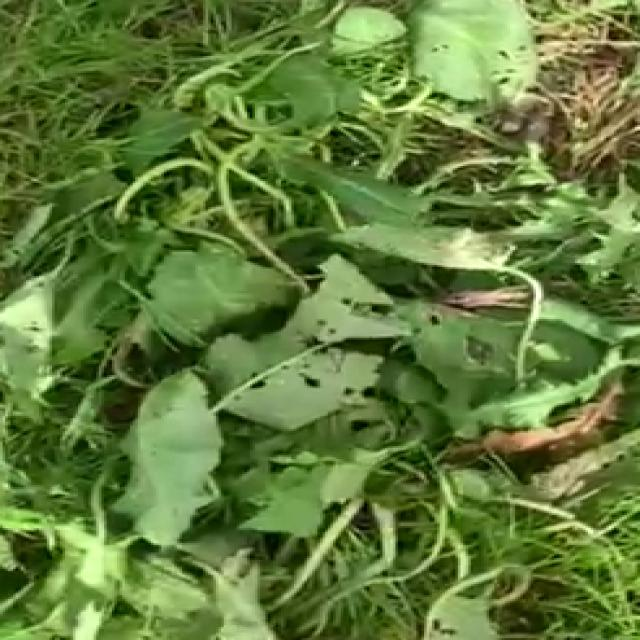organic waste: (47, 64, 627, 538)
